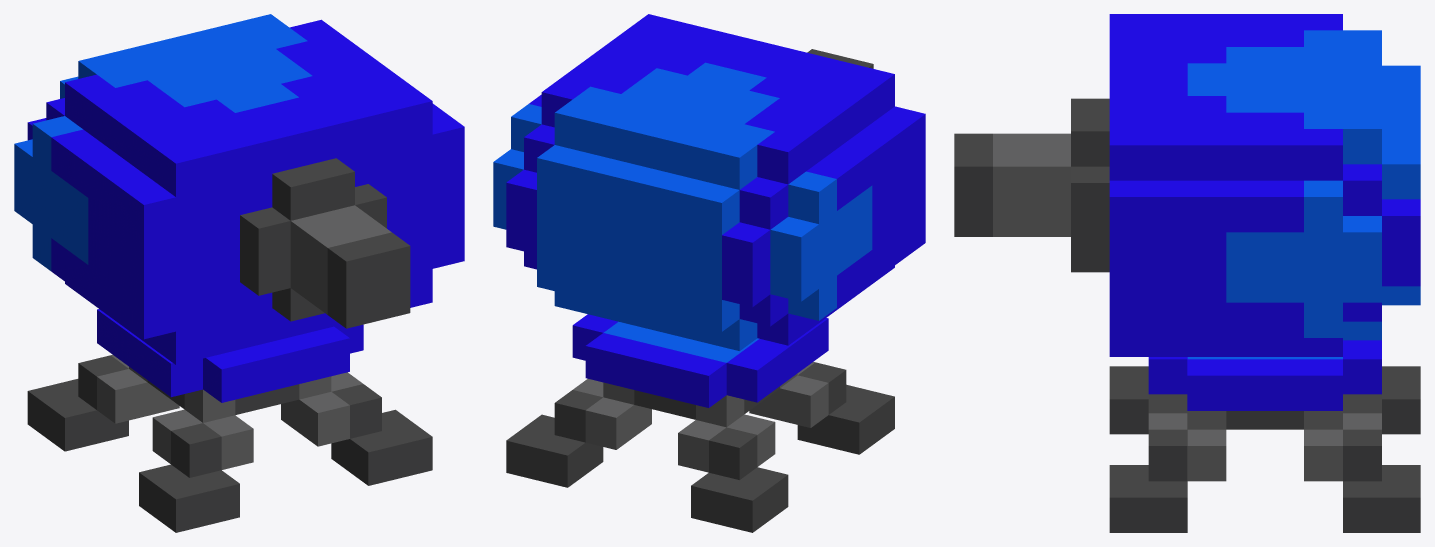
Rendered from turret1.obj.
3 views of the same model, side by side, from view 1: azimuth 30°, elevation 25°; view 2: azimuth 150°, elevation 25°; view 3: azimuth 270°, elevation 25° (orthographic). The views are drawn at different scales.
Bounding box in the file's own units: 1 × 1.1 × 1.2.
1 material, 1 textured.
